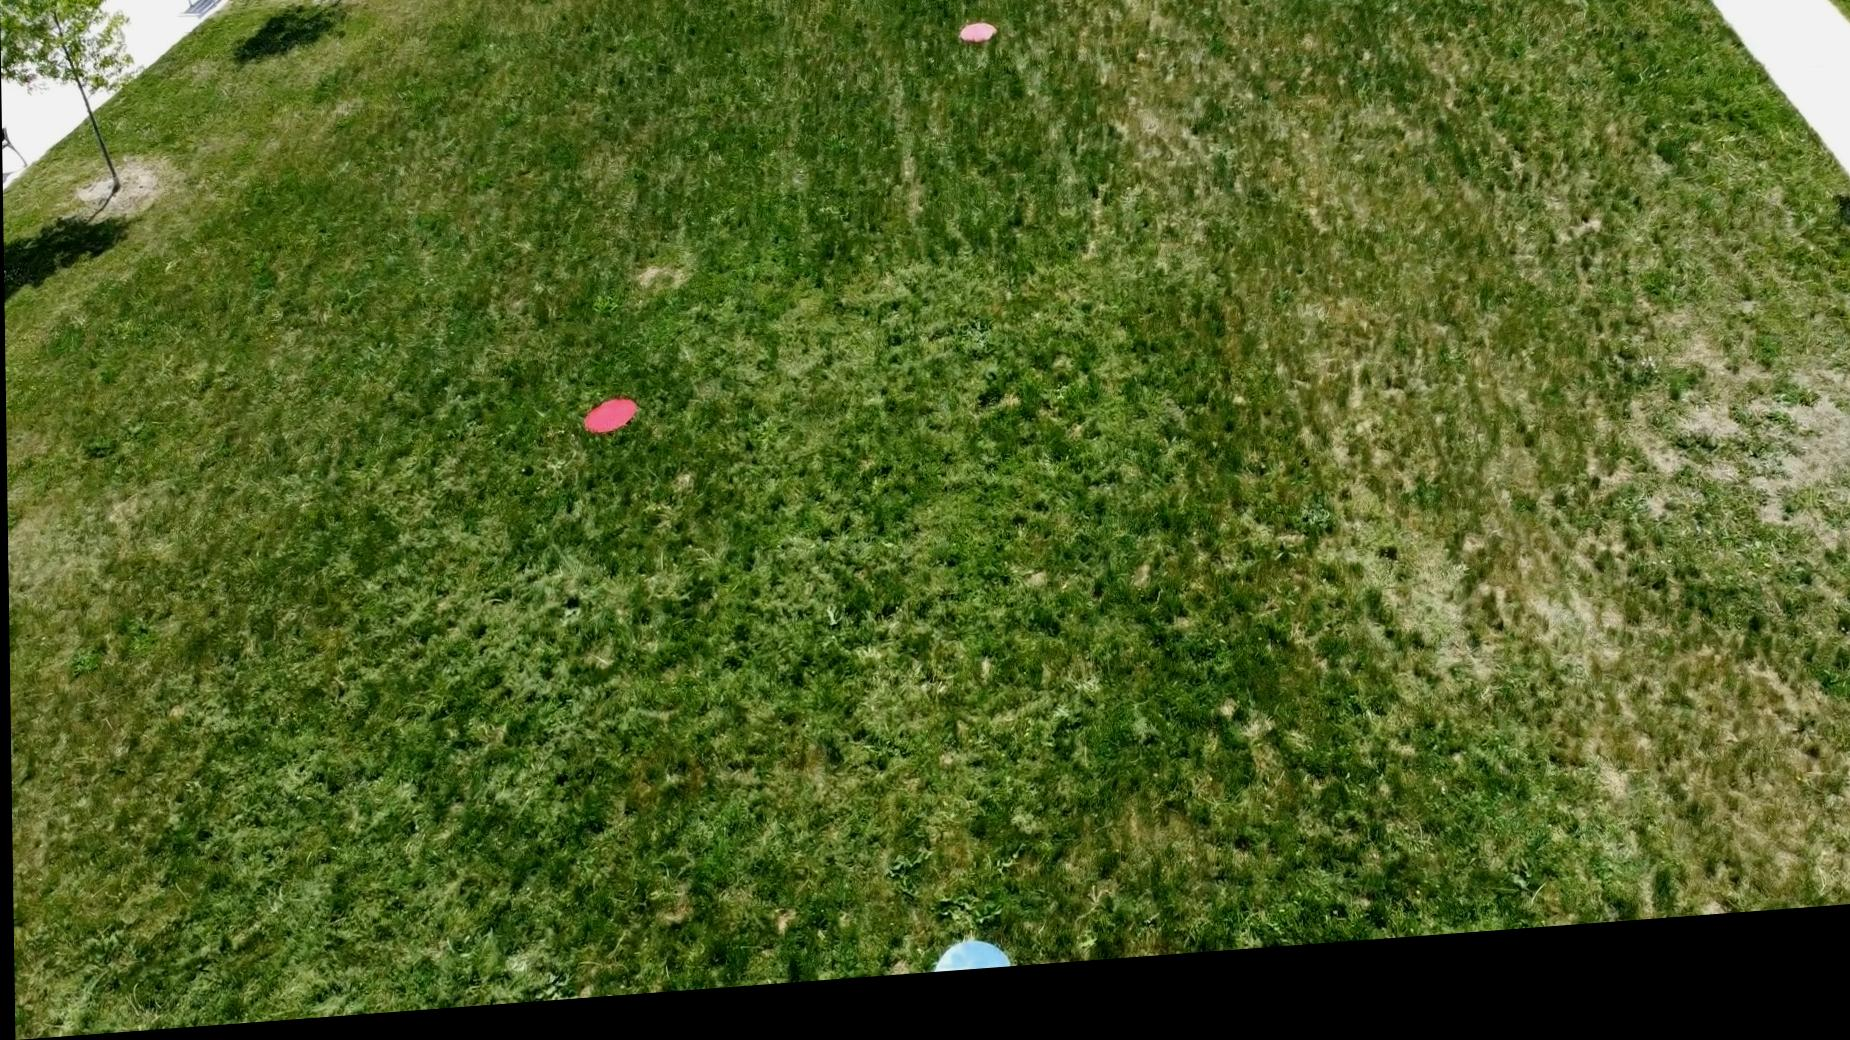Blue: (926, 950, 1010, 987)
Red: (579, 404, 642, 446), (955, 36, 999, 62)
